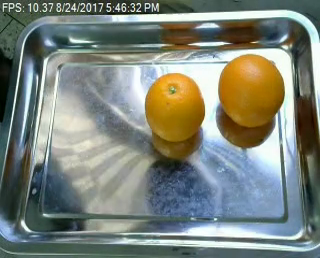Orange: (219, 53, 285, 126), (145, 73, 206, 141)
